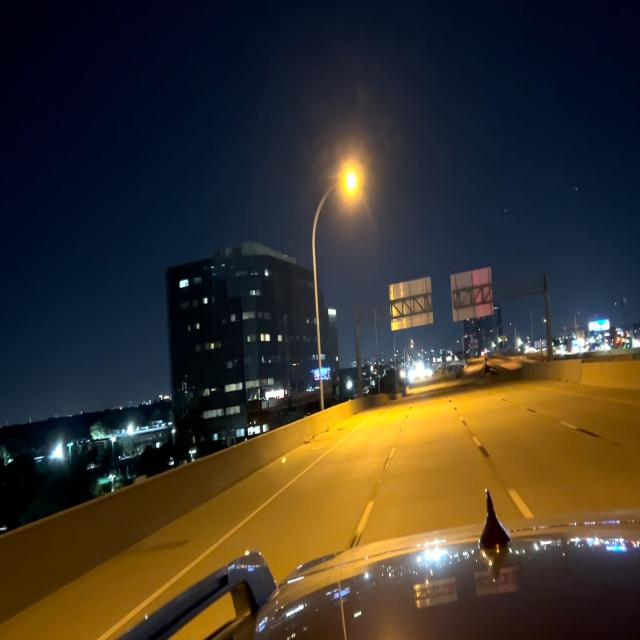back-of-sign: (452, 264, 494, 324), (390, 276, 434, 333)
